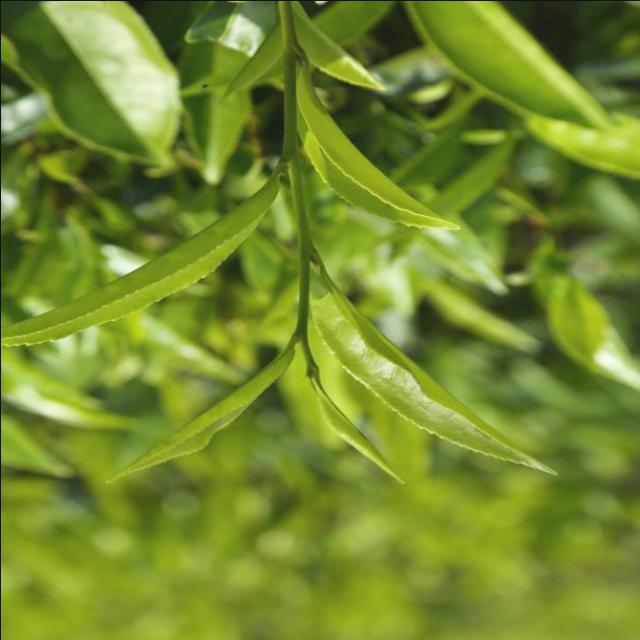Stem: (295, 321, 307, 337)
